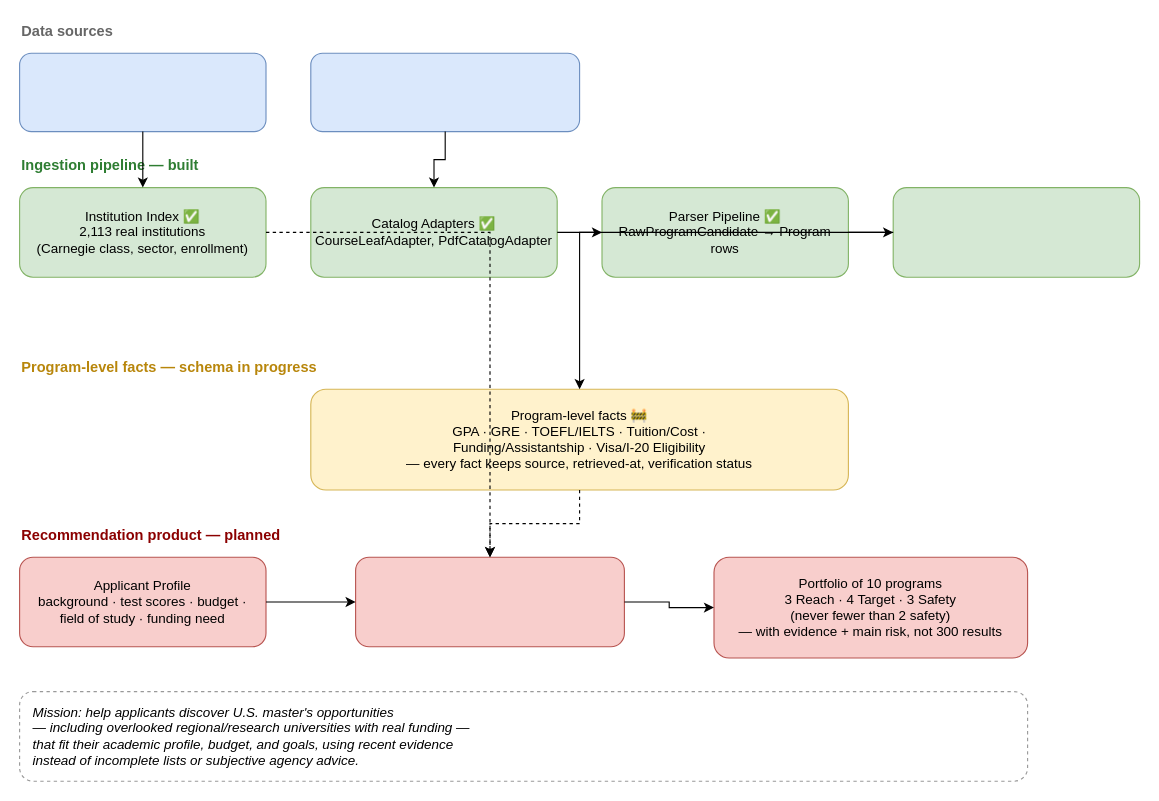
Some shapes in this 1159 by 801 pixel diagram are drawn without their labels. Here are the shapes that lost their labels. From the top down, the box of each, then its label:
(18, 52, 266, 132): IPEDS survey data (HD + EF, real, downloaded)
(310, 52, 580, 132): Institution catalog pages (CourseLeaf sites, PDF catalogs)
(892, 186, 1140, 277): Review Queue ✅ human verification before trusted (no auto-promotion)
(354, 556, 624, 647): Recommendation Engine 🚧 (not yet built) Prestige / Funding / Balanced modes
